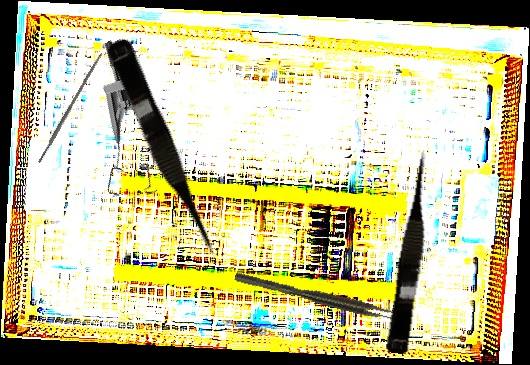Micro Scissor: (100, 35, 225, 265), (385, 148, 440, 356)
Scalpel Handle: (36, 51, 104, 164)
Speculum: (46, 39, 185, 212)
Tissue Forceps: (234, 267, 402, 325)
